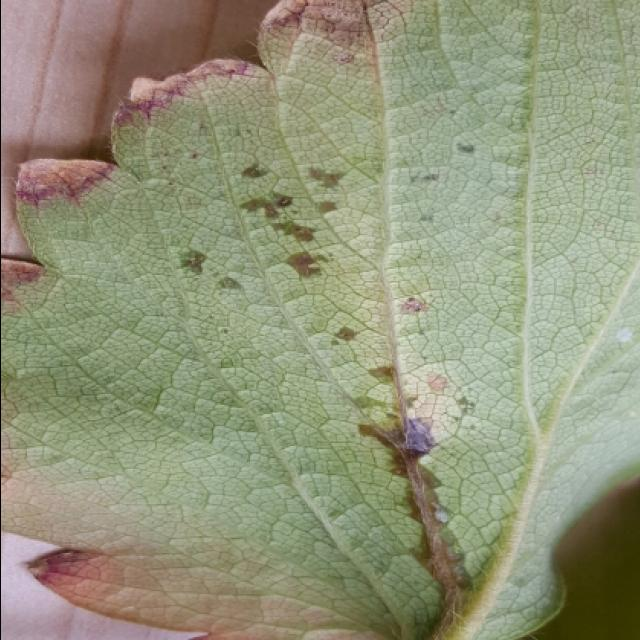Angular Leafspot: (2, 2, 488, 640)
